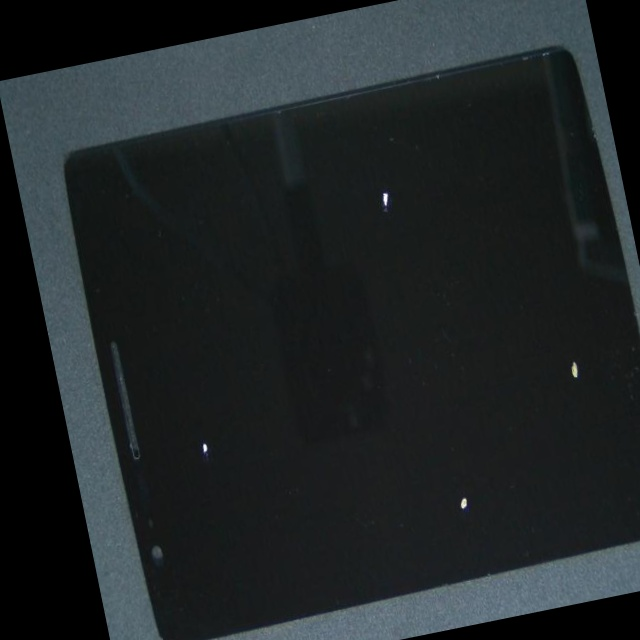stain: (238, 183, 640, 640), (291, 115, 640, 572), (162, 91, 580, 367), (87, 306, 313, 640)
